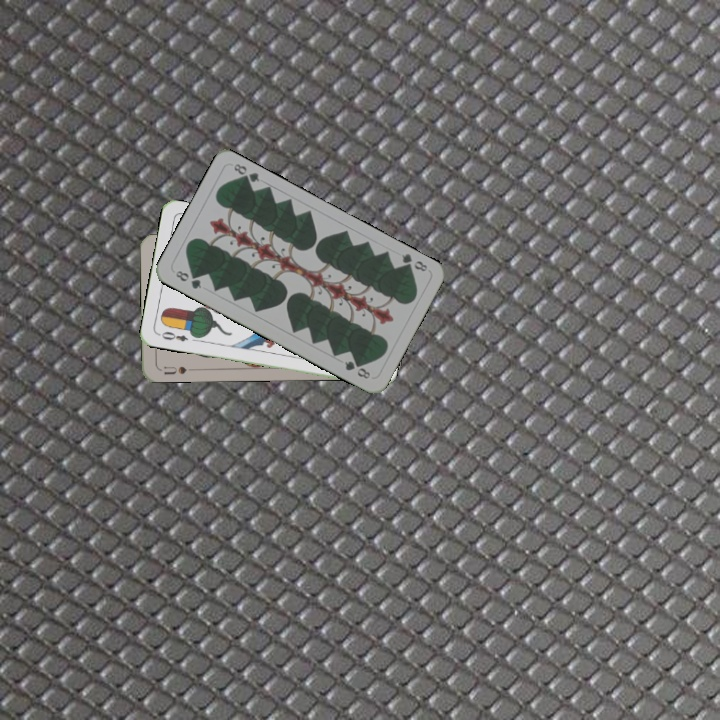EO: (154, 327, 190, 344)
G8: (171, 266, 204, 292), (397, 249, 430, 274)
SU: (156, 362, 189, 377)
